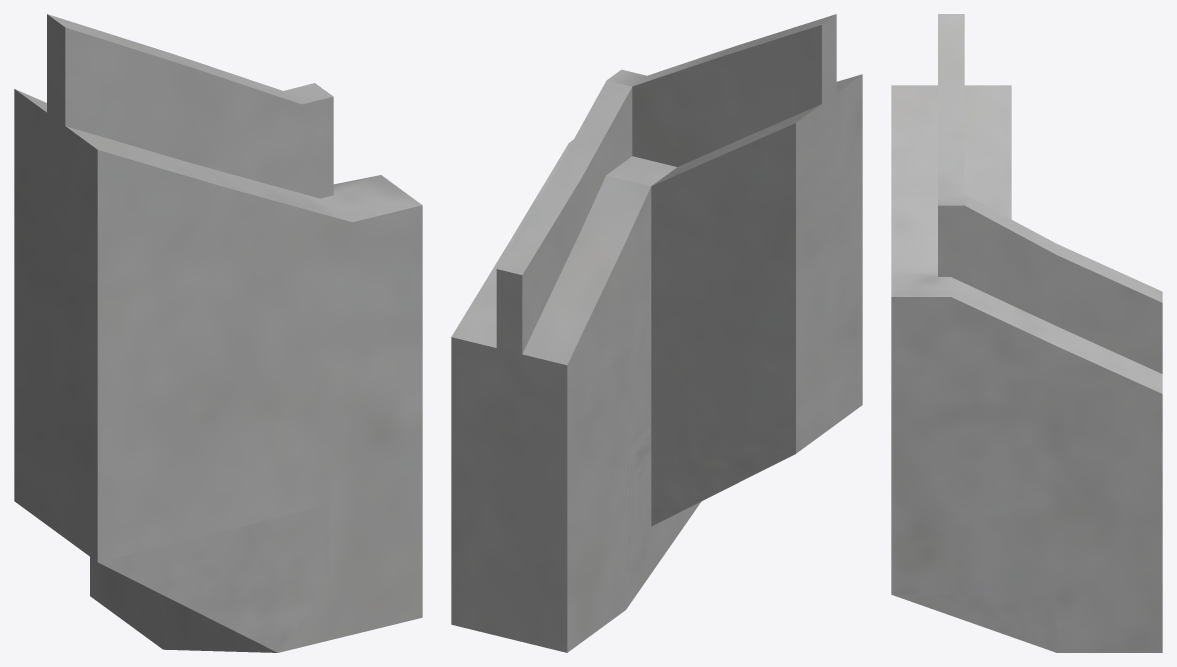
Rendered from UpDownRight.fbx.
3 renders of one model, left to right at view 1: azimuth 30°, elevation 25°; view 2: azimuth 150°, elevation 25°; view 3: azimuth 270°, elevation 25°, orthographic. The views are drawn at different scales.
Parts seen in each view (by area): view 1: StairConcreteUpDownLRight; view 2: StairConcreteUpDownLRight; view 3: StairConcreteUpDownLRight.
Boxes of the visible parts, bbox=[...] form: StairConcreteUpDownLRight: bbox=[14, 14, 422, 652]; StairConcreteUpDownLRight: bbox=[451, 14, 862, 652]; StairConcreteUpDownLRight: bbox=[891, 14, 1162, 652].
Size of what is drawn, in the model's own units: 84.66 by 181 by 84.87.
